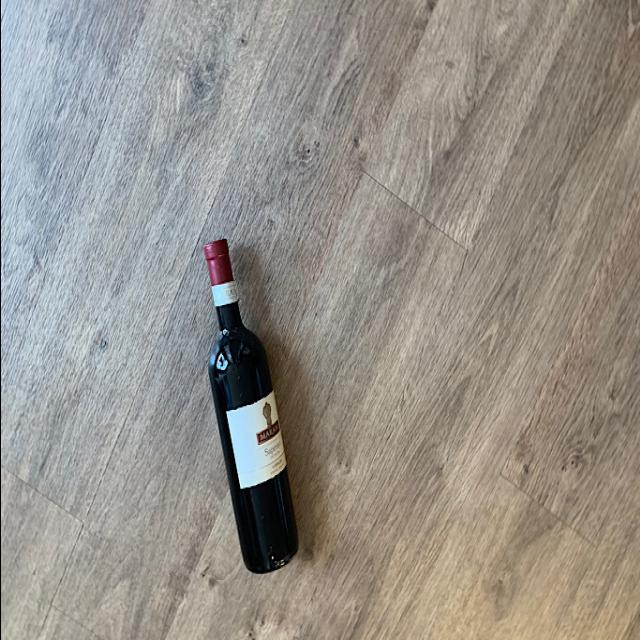Glass Bottle: (193, 232, 299, 588)
